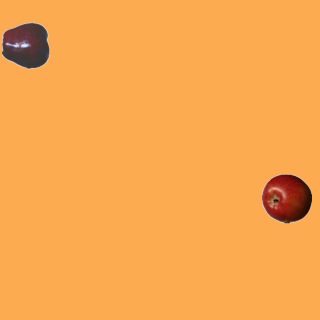Apple Braeburn: (261, 173, 311, 223)
Apple Red Delicious: (1, 20, 51, 70)
